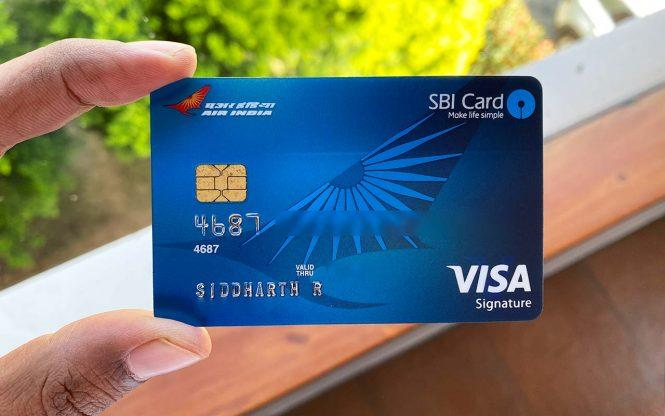Credit_card: (151, 76, 542, 326)
